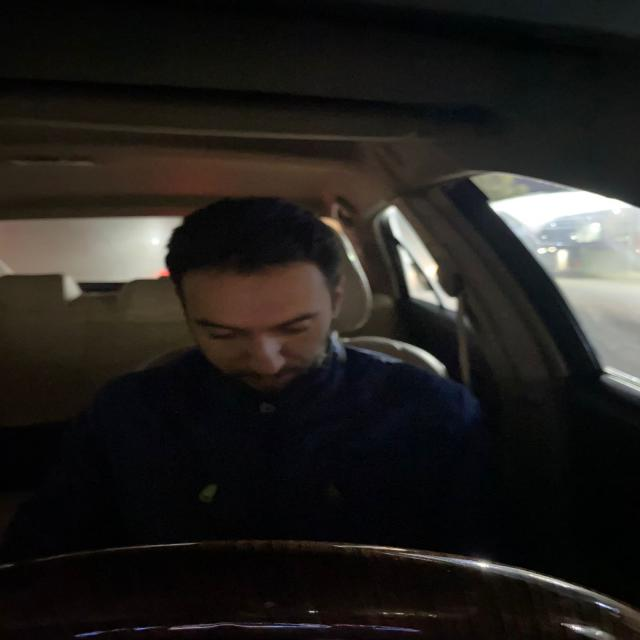drowsy: (169, 208, 352, 395)
